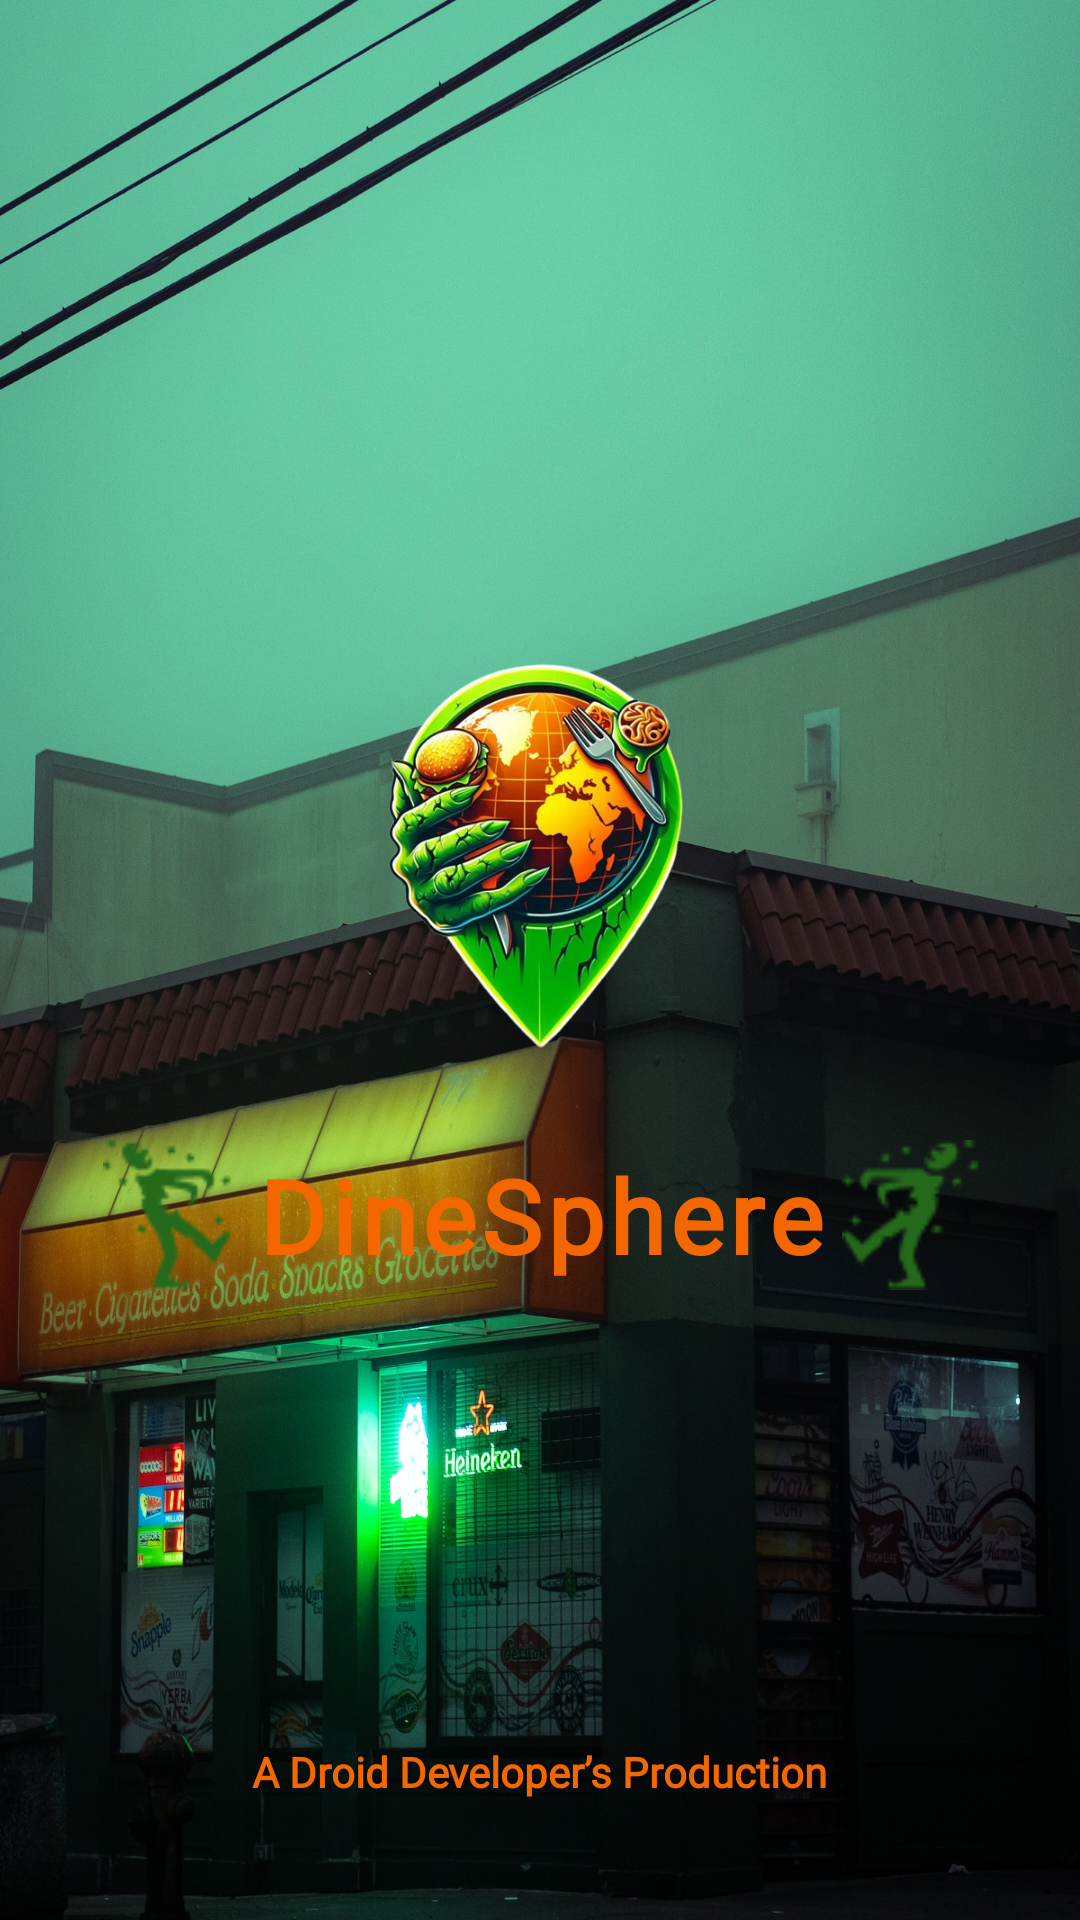

Icon click points for this 1080w x 1920h phone screenshot, format (x=x, y=y):
zombie: (x=168, y=1215), (x=910, y=1215)
